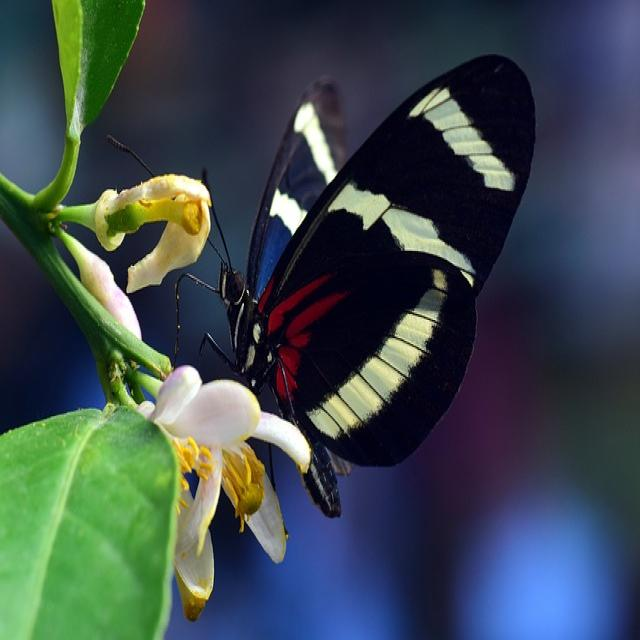butterfly: (221, 56, 535, 517)
